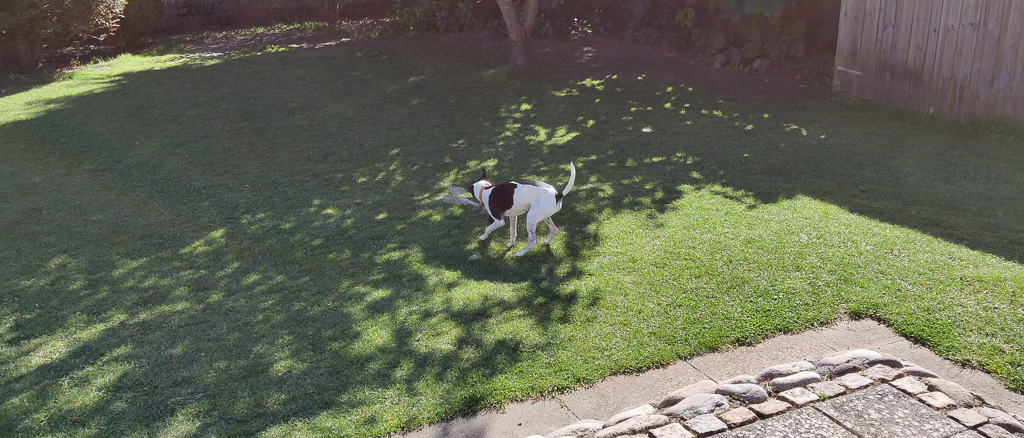Dog: (462, 158, 582, 258)
